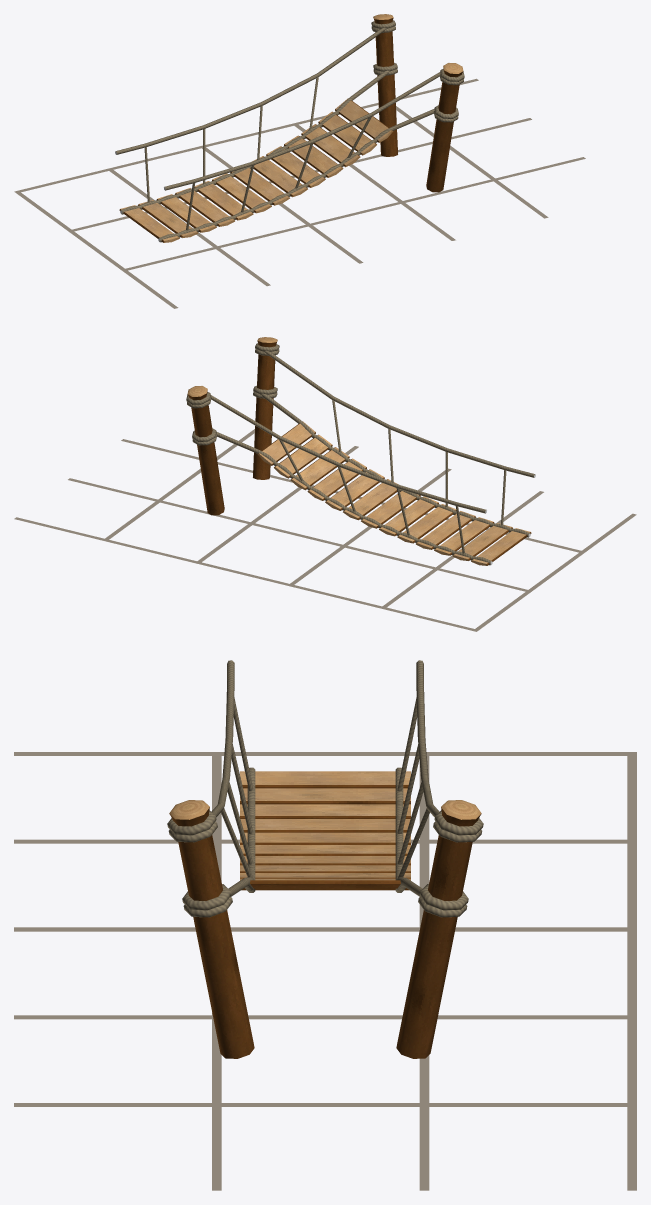
The model's file is Prop_Bridge_Rope_End_Basic_1x3.glb.
The picture shows the model from 3 angles, top to bottom: view 1: azimuth 30°, elevation 25°; view 2: azimuth 150°, elevation 25°; view 3: azimuth 270°, elevation 25°; orthographic projection. The views are drawn at different scales.
Visible parts, largest first — view 1: Prop_Bridge_Rope_End_Basic_1x3, Floor; view 2: Prop_Bridge_Rope_End_Basic_1x3, Floor; view 3: Prop_Bridge_Rope_End_Basic_1x3, Floor.
Boxes of the visible parts, x1,y1,x2,y2 form: Prop_Bridge_Rope_End_Basic_1x3: [115, 14, 464, 242]; Floor: [14, 78, 585, 308]; Prop_Bridge_Rope_End_Basic_1x3: [186, 337, 535, 565]; Floor: [14, 429, 636, 631]; Prop_Bridge_Rope_End_Basic_1x3: [167, 660, 483, 1058]; Floor: [14, 752, 636, 1190].
Bounding box in the file's own units: 500 × 135 × 300.
6 materials, 5 textured.
